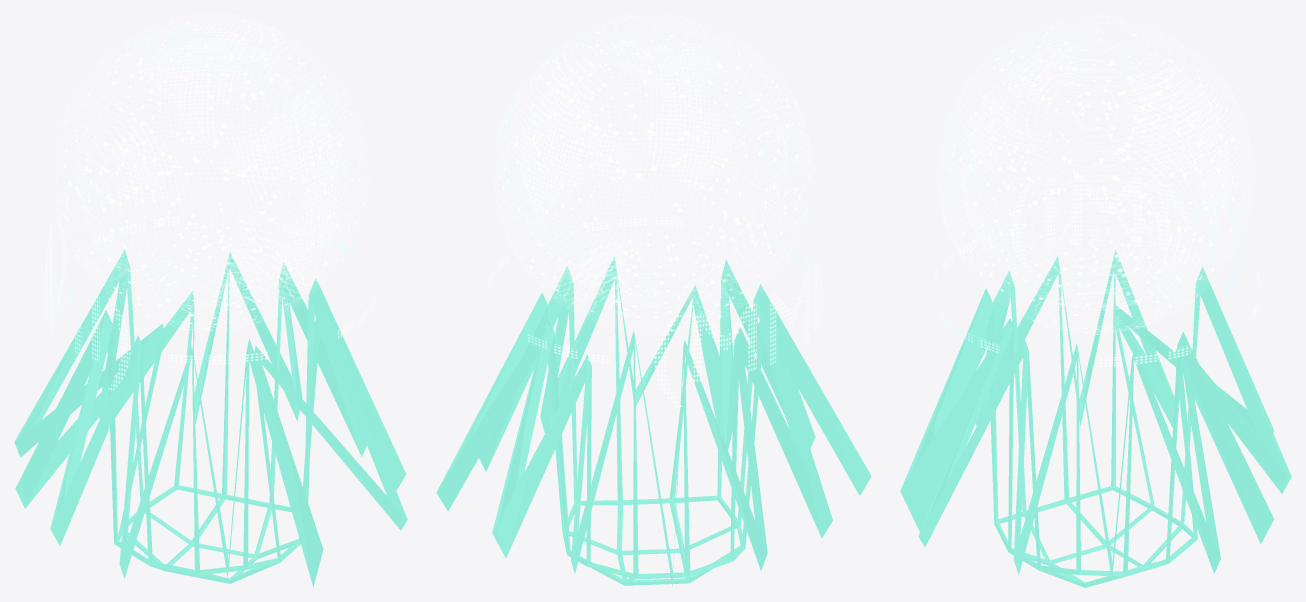
File: Planet MMI.glb
3 views of the same model, side by side, from view 1: azimuth 30°, elevation 25°; view 2: azimuth 150°, elevation 25°; view 3: azimuth 270°, elevation 25° (orthographic).
Visible parts, largest first — view 1: Rays, Planet_MMI, MMI_Text.002; view 2: Rays, Planet_MMI, MMI_Text.002; view 3: Rays, Planet_MMI, MMI_Text.002.
Part boxes in pixels (bbox=[...]): Rays: bbox=[14, 249, 407, 587]; Planet_MMI: bbox=[51, 14, 369, 330]; MMI_Text.002: bbox=[45, 217, 375, 390]; Rays: bbox=[436, 256, 871, 587]; Planet_MMI: bbox=[493, 14, 813, 332]; MMI_Text.002: bbox=[489, 217, 821, 407]; Rays: bbox=[900, 250, 1291, 587]; Planet_MMI: bbox=[936, 15, 1256, 334]; MMI_Text.002: bbox=[932, 176, 1260, 366].
Bounding box in the file's own units: 0.0715 × 0.1087 × 0.0716.
Materials: 3 (2 with a texture image).
